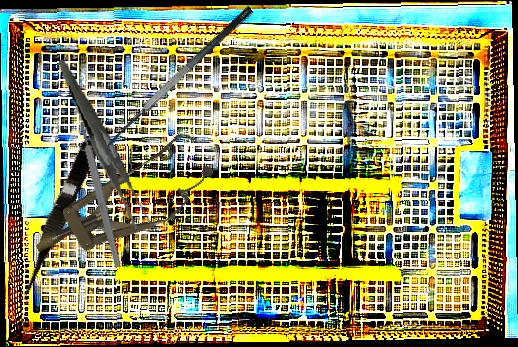Dressing Forceps: (58, 51, 152, 237)
Micro Scissor: (8, 134, 103, 307)
Scalpel Handle: (77, 120, 123, 269)
Spatula Surgical: (97, 4, 266, 160)
Speculum: (19, 125, 224, 282)
